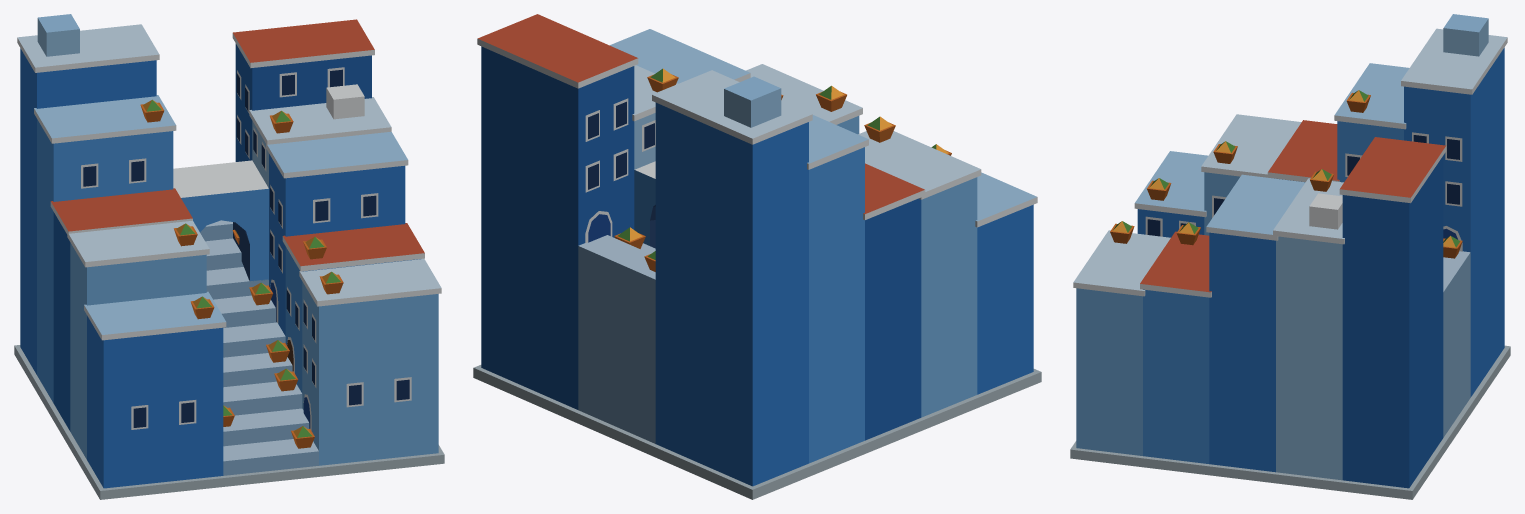
Rendered from maisonsBleues.glb.
3 views of the same model, side by side, from view 1: azimuth 30°, elevation 25°; view 2: azimuth 150°, elevation 25°; view 3: azimuth 270°, elevation 25° (orthographic). The views are drawn at different scales.
Visible parts, largest first — view 1: maisonsBleues; view 2: maisonsBleues; view 3: maisonsBleues.
Boxes of the visible parts, <box> form: maisonsBleues: <box>14,14,444,499</box>; maisonsBleues: <box>473,14,1041,499</box>; maisonsBleues: <box>1070,14,1510,499</box>.
Size of the model in its own units: 1.78 by 1.53 by 1.78.
